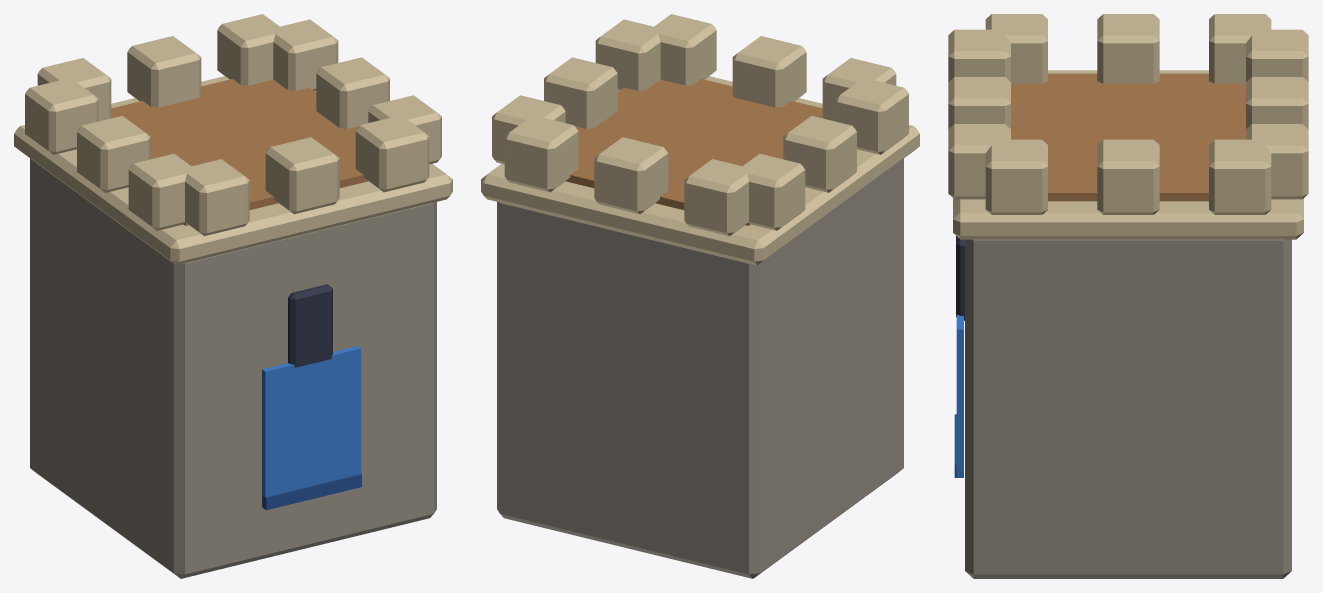
The model's file is Tower_Meadow.fbx.
3 renders of one model, left to right at view 1: azimuth 30°, elevation 25°; view 2: azimuth 150°, elevation 25°; view 3: azimuth 270°, elevation 25°, orthographic. The views are drawn at different scales.
Parts seen in each view (by area): view 1: Tower_Meadow; view 2: Tower_Meadow; view 3: Tower_Meadow.
Part boxes in pixels (x1,y1,x2,y2): Tower_Meadow: (14, 14, 452, 578); Tower_Meadow: (481, 14, 919, 578); Tower_Meadow: (948, 14, 1308, 578).
Size of the model in its own units: 2.42 by 3.16 by 2.42.
